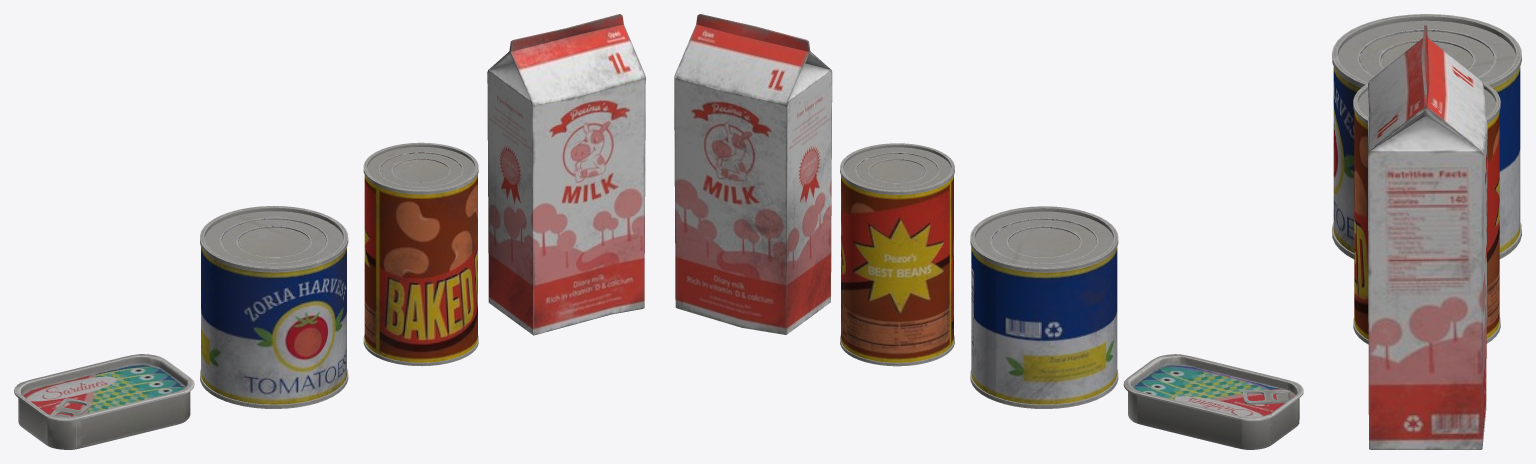
File: goods_cans.glb
3 renders of one model, left to right at view 1: azimuth 30°, elevation 25°; view 2: azimuth 150°, elevation 25°; view 3: azimuth 270°, elevation 25°, orthographic. The views are drawn at different scales.
Visible parts, largest first — view 1: goods_cans; view 2: goods_cans; view 3: goods_cans.
Part boxes in pixels (bbox=[...]): goods_cans: bbox=[14, 14, 645, 449]; goods_cans: bbox=[674, 14, 1303, 449]; goods_cans: bbox=[1332, 14, 1521, 449].
Bounding box in the file's own units: 0.5237 × 0.2376 × 0.1135.
Materials: 1 (1 with a texture image).
